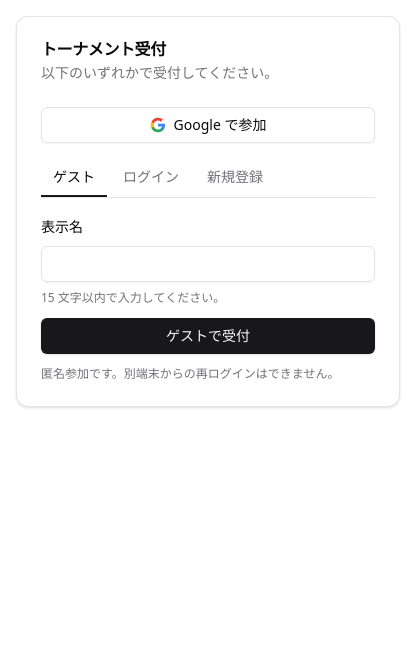
Test: JoinClient — 新規登録タブ（08 Phase 3） › 既登録メールなら「ログイン」タブへ誘導し、完了画面へ遷移しない
The width and height of the screenshot is (417, 657).
Click the tab "新規登録" at (235, 178), box x1=195 y1=159 x2=275 y2=197
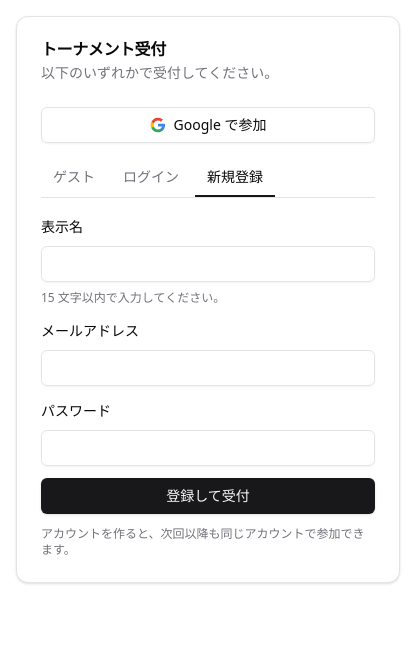
Type "Alice" into the field labelled "表示名" at (208, 264), box x1=41 y1=246 x2=375 y2=282
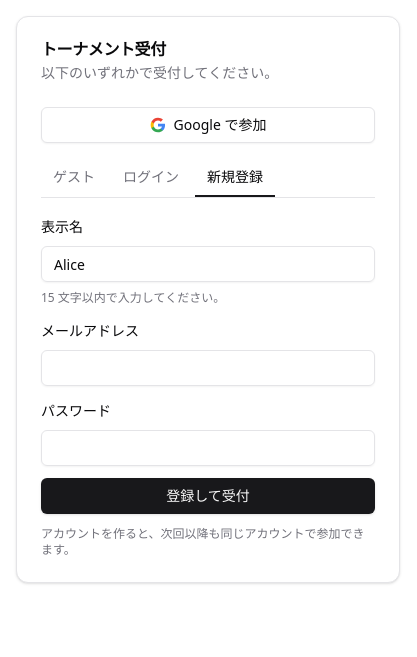
Type "alice@example.com" into the field labelled "メールアドレス" at (208, 368), box x1=41 y1=350 x2=375 y2=386
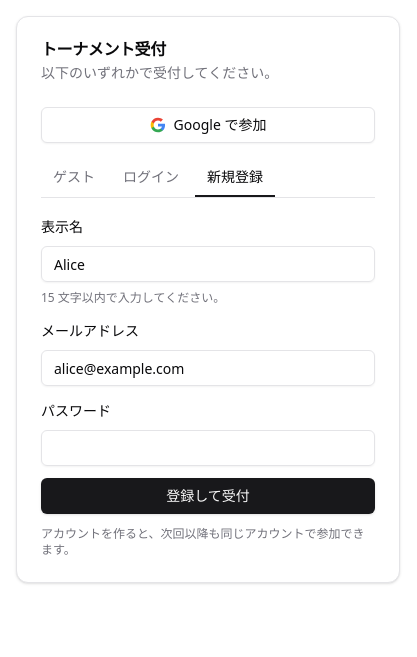
Type "pass123456" into the password field labelled "パスワード" at (208, 448), box x1=41 y1=430 x2=375 y2=466
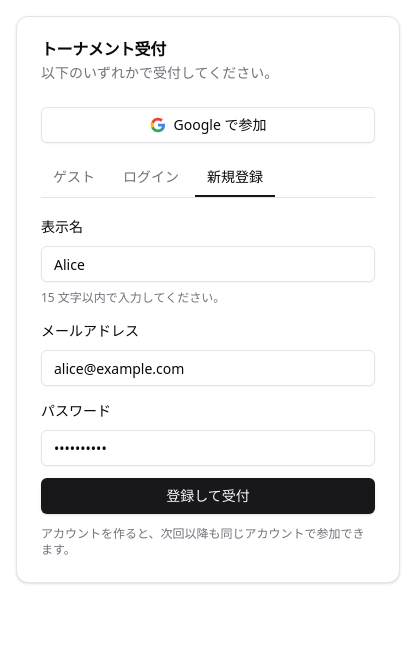
Click the button "登録して受付" at (208, 496), box x1=41 y1=478 x2=375 y2=514
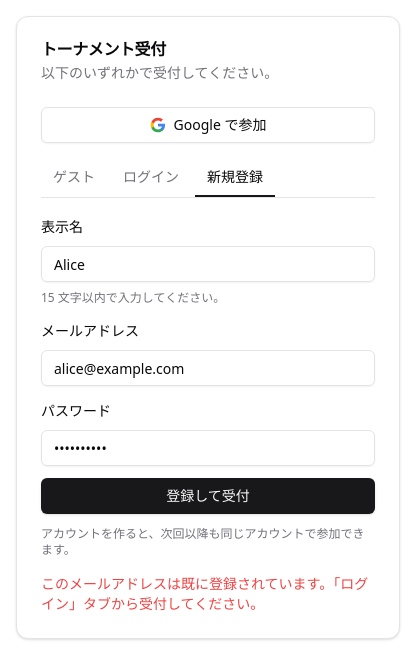
expect the text "このメールアドレスは既に登録されています。「ログイン」タブから受付してください。" is shown: met, box x1=41 y1=574 x2=375 y2=614
